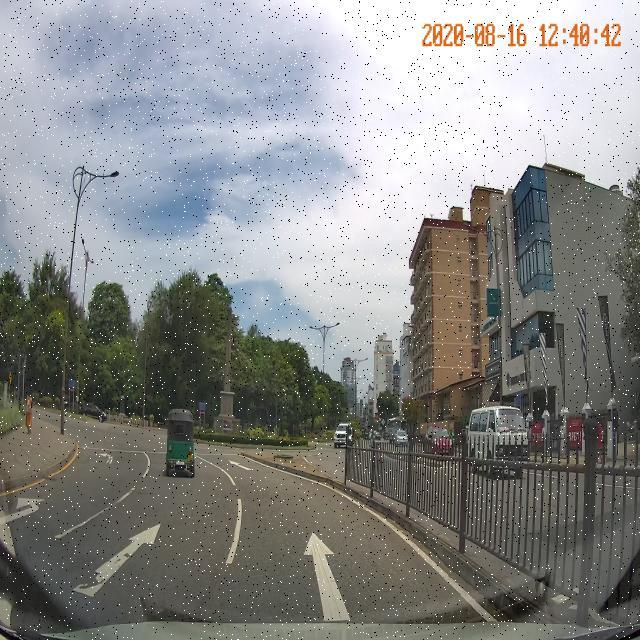forward: (189, 520, 510, 624)
